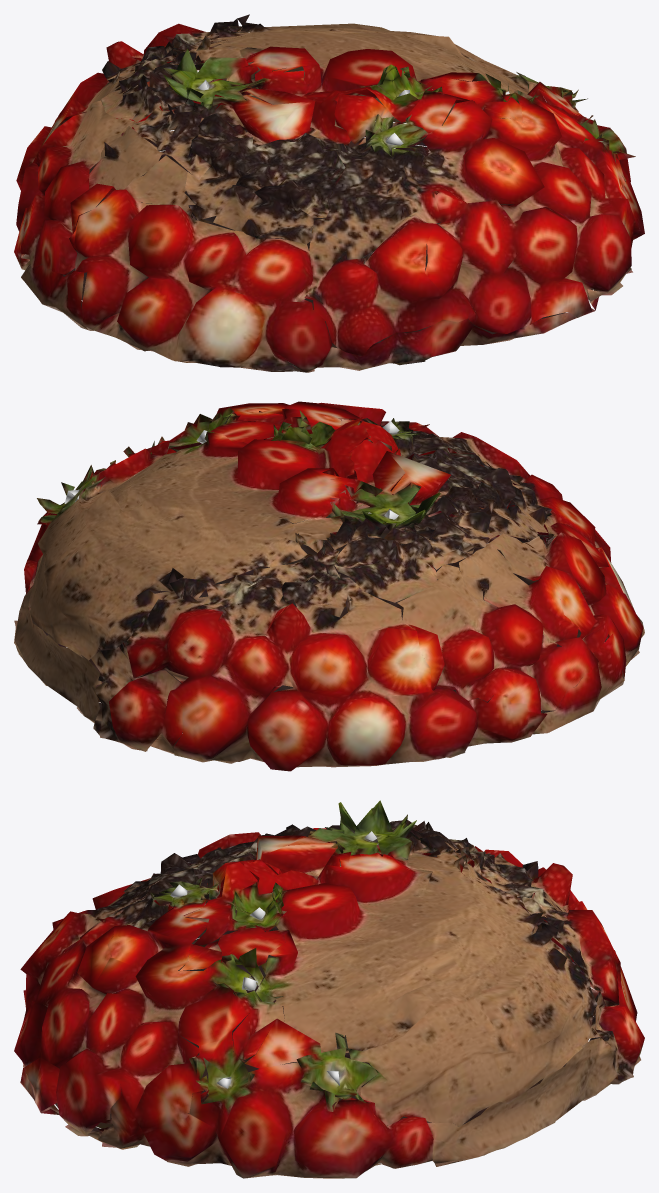
Rendered from strawberry_chocolate_cake.glb.
3 views of the same model, one above another, from view 1: azimuth 30°, elevation 25°; view 2: azimuth 150°, elevation 25°; view 3: azimuth 270°, elevation 25° (orthographic). The views are drawn at different scales.
Visible parts, largest first — view 1: strawberry_chocolate_cake; view 2: strawberry_chocolate_cake; view 3: strawberry_chocolate_cake.
Boxes of the visible parts, x1,y1,x2,y2 form: strawberry_chocolate_cake: (14,14,644,372); strawberry_chocolate_cake: (14,401,644,771); strawberry_chocolate_cake: (14,800,644,1178).
Size of the model in its own units: 0.2432 by 0.0797 by 0.2403.
Materials: 1 (1 with a texture image).
